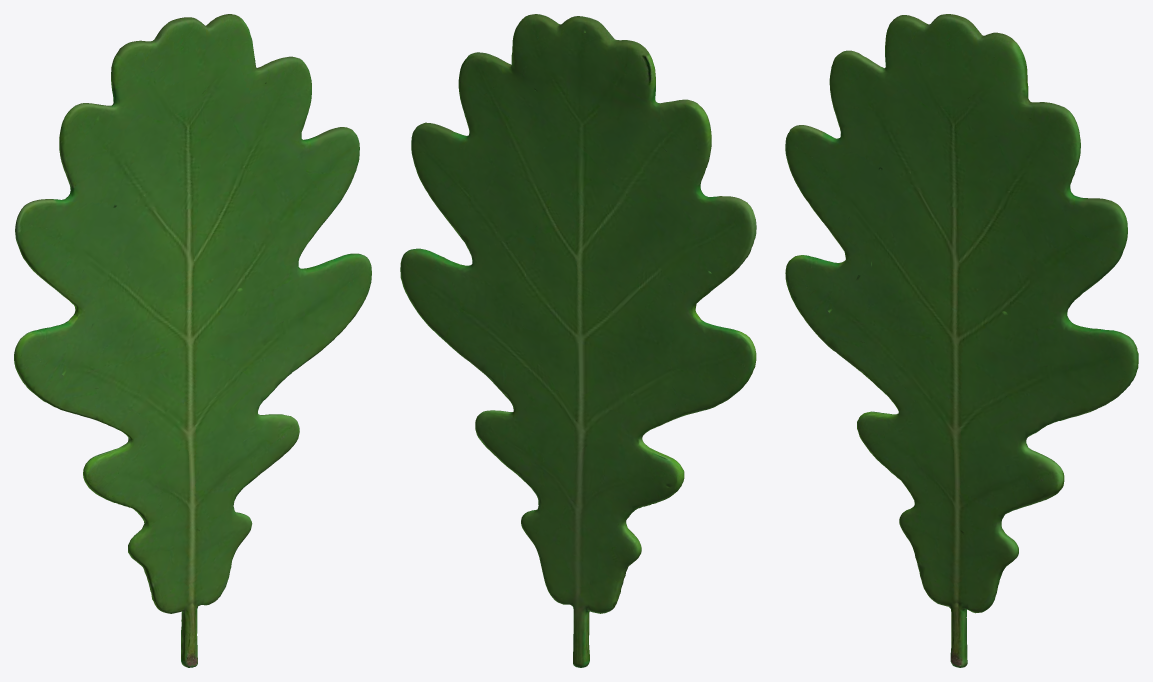
3 views of the same model, side by side, from view 1: azimuth 30°, elevation 25°; view 2: azimuth 150°, elevation 25°; view 3: azimuth 330°, elevation 25° (orthographic).
Visible parts, largest first — view 1: Mesh_0; view 2: Mesh_0; view 3: Mesh_0.
Part boxes in pixels (x1,y1,x2,y2): Mesh_0: [14, 14, 371, 667]; Mesh_0: [400, 14, 756, 667]; Mesh_0: [785, 14, 1138, 667].
Bounding box in the file's own units: 1.14 × 1.99 × 0.0666.
1 material, 1 textured.
